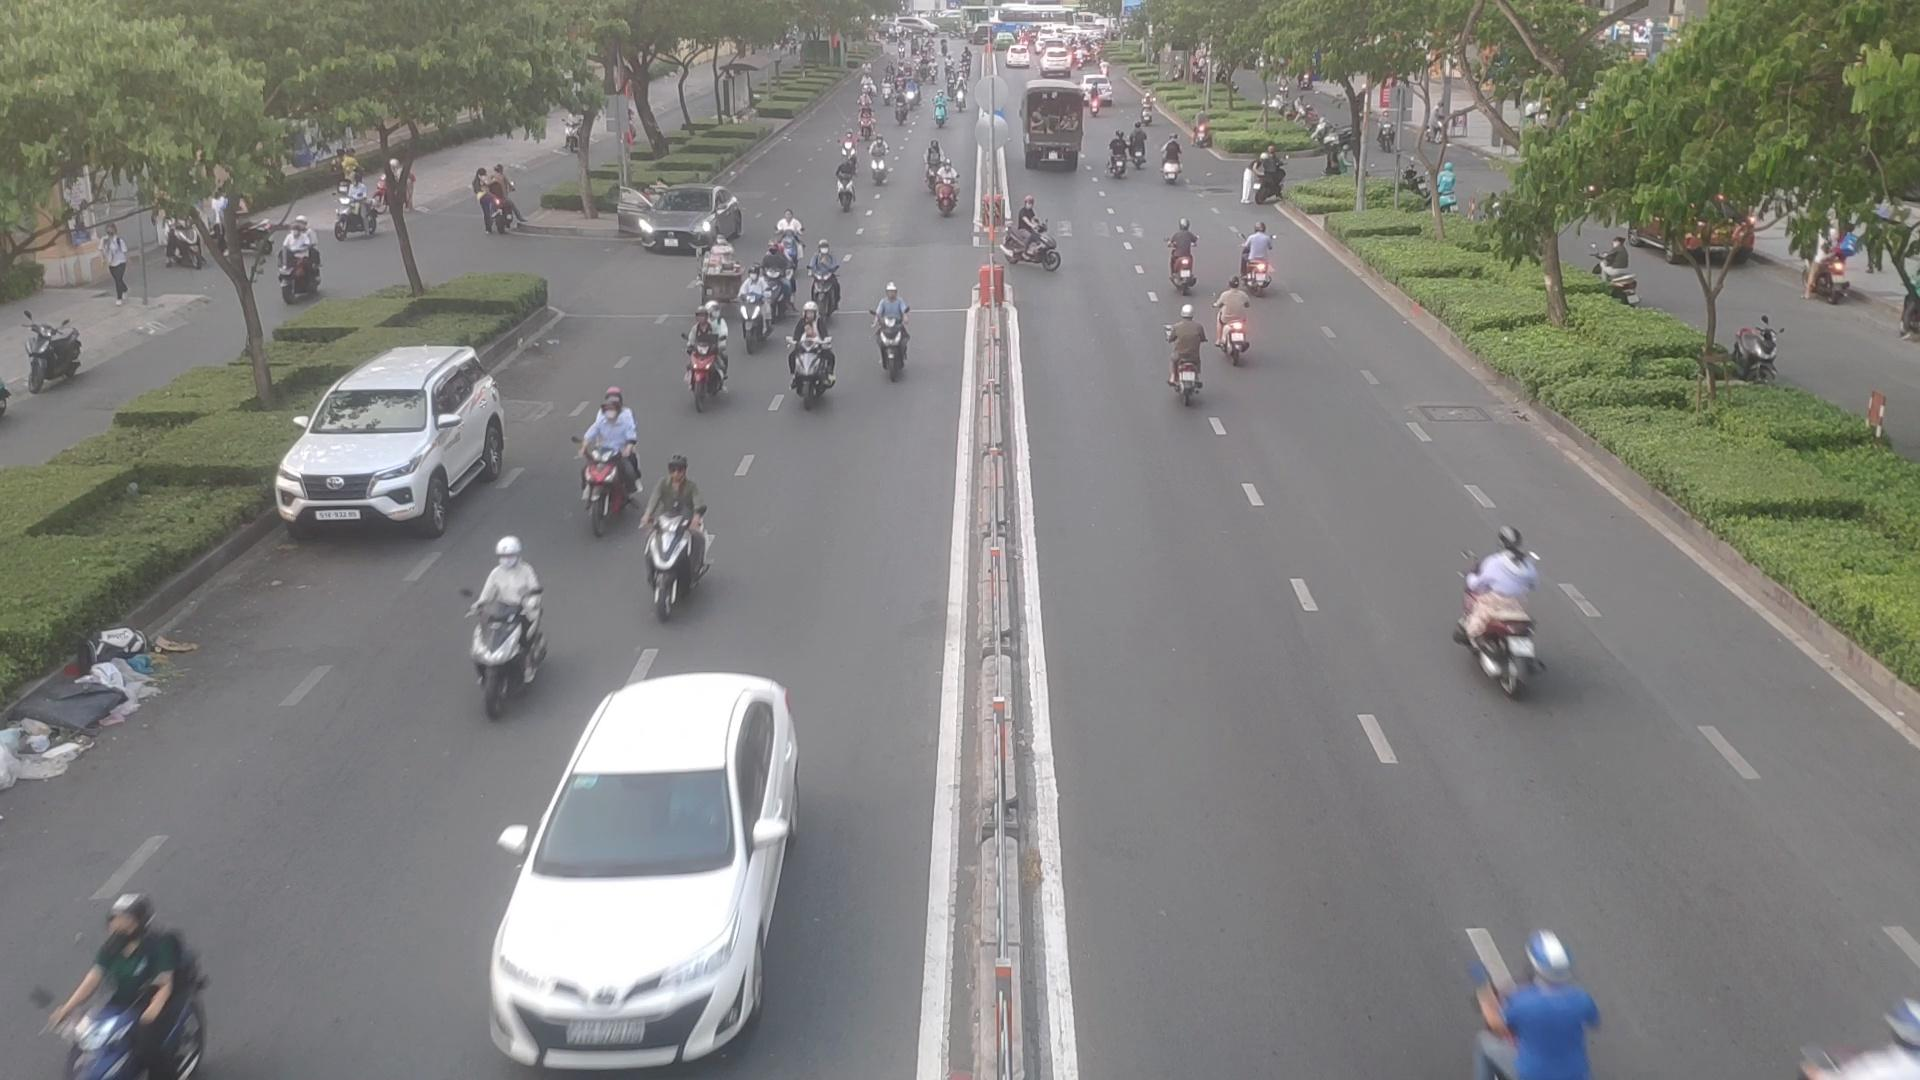car: (484, 673, 800, 1068), (273, 345, 512, 534), (621, 189, 738, 258)
motorbike: (49, 886, 206, 1080), (1464, 924, 1600, 1080), (1453, 512, 1549, 711), (467, 524, 545, 699), (580, 384, 640, 541), (641, 459, 705, 601), (684, 301, 731, 415), (1160, 301, 1204, 413), (781, 336, 839, 413), (1013, 194, 1054, 289), (870, 284, 911, 376), (1211, 276, 1247, 363), (741, 262, 773, 349), (808, 240, 841, 313), (1174, 214, 1200, 293), (1244, 220, 1269, 295), (1156, 129, 1189, 186), (831, 154, 860, 218), (936, 164, 960, 224), (869, 131, 889, 190), (1109, 127, 1131, 173)
